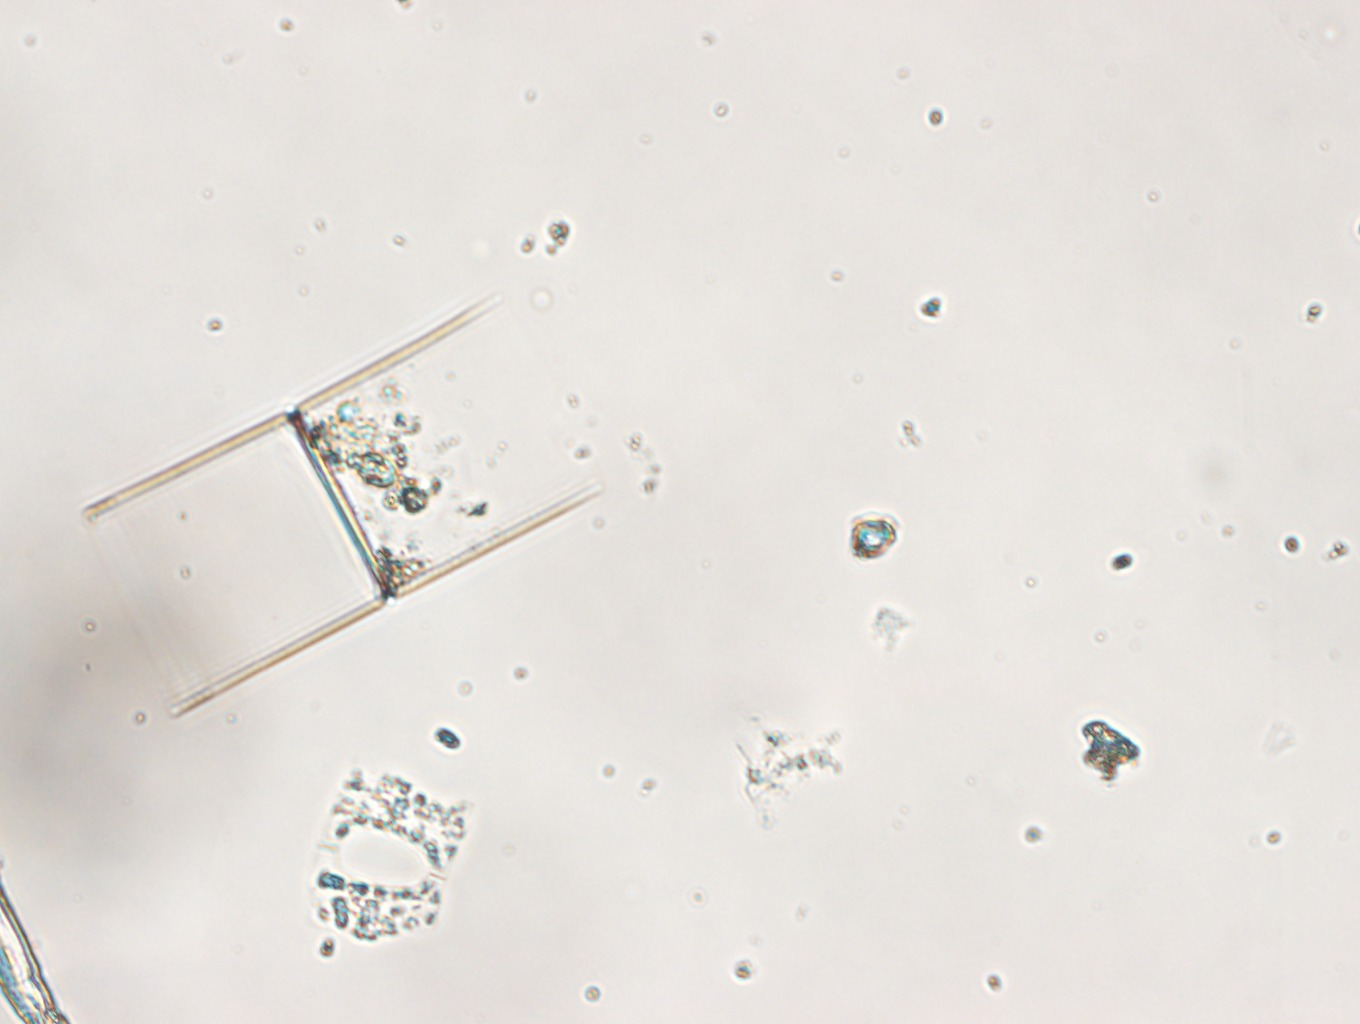guinardia flaccida: (76, 284, 603, 715)
